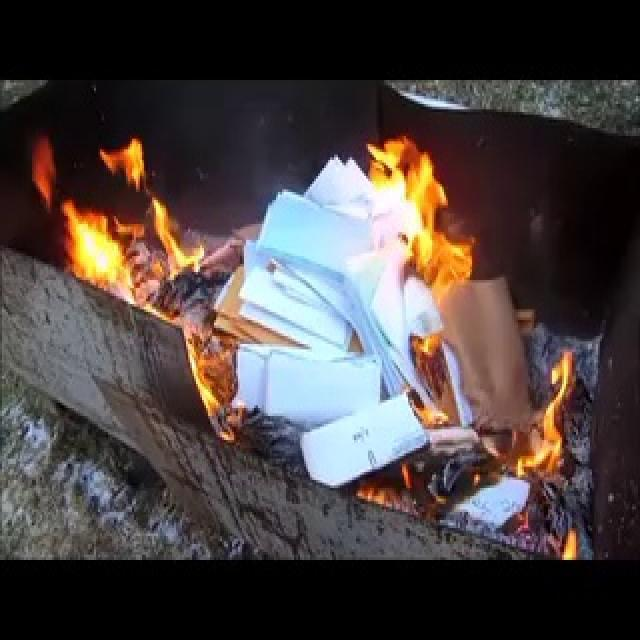fire: (35, 181, 191, 312)
